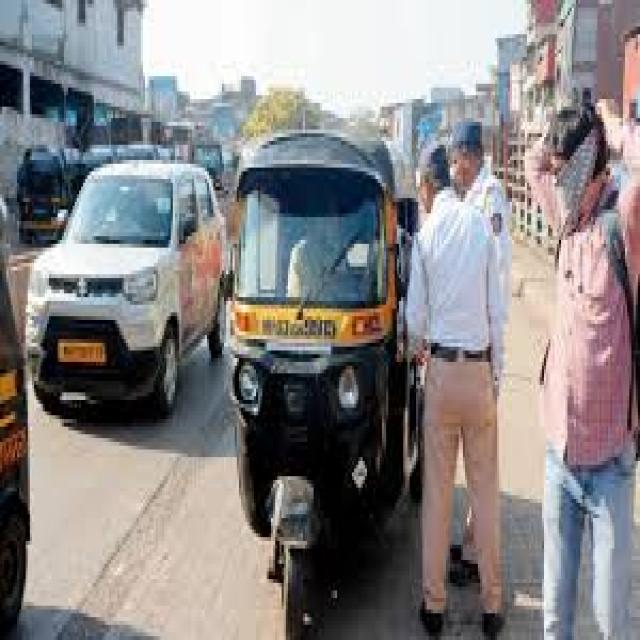car: (26, 160, 222, 415)
person: (525, 99, 638, 640), (410, 145, 501, 640), (452, 122, 510, 320)
three wheeler: (230, 130, 420, 640), (0, 259, 28, 632), (17, 149, 68, 244)
